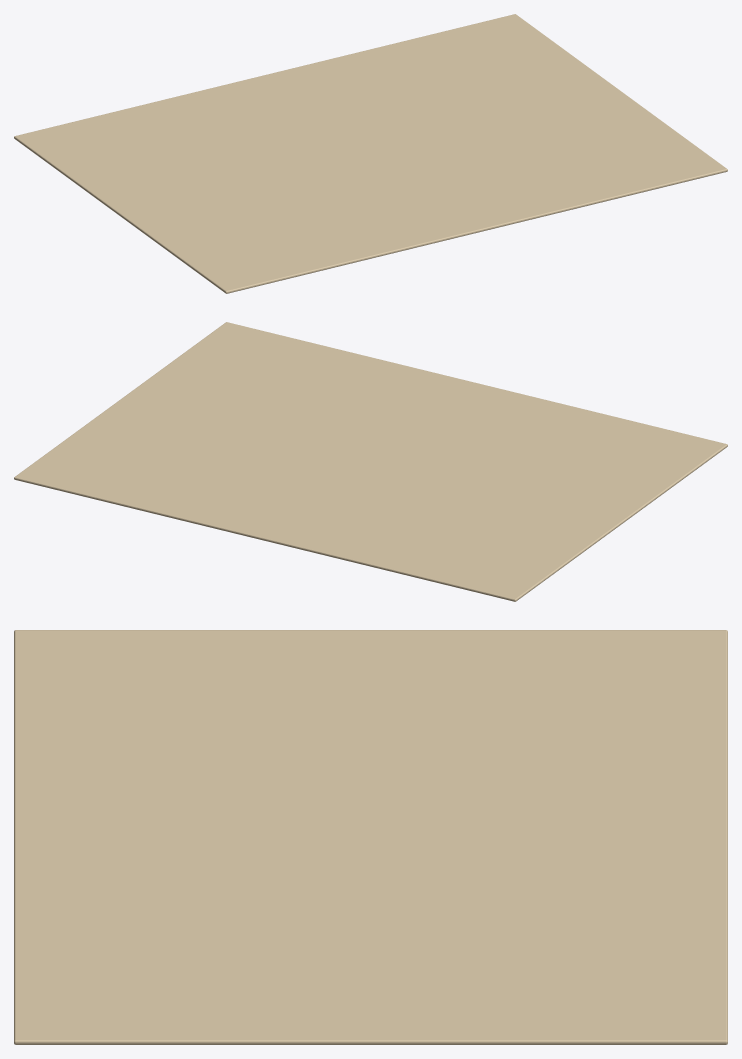
Rendered from woven-jute-rug.glb.
The picture shows the model from 3 angles, top to bottom: view 1: azimuth 30°, elevation 25°; view 2: azimuth 150°, elevation 25°; view 3: azimuth 270°, elevation 25°; orthographic projection. The views are drawn at different scales.
Visible parts, largest first — view 1: rug.jute; view 2: rug.jute; view 3: rug.jute.
Boxes of the visible parts, x1,y1,x2,y2 form: rug.jute: (14,14,727,293); rug.jute: (14,322,727,601); rug.jute: (14,630,727,1044).
Size of the model in its own units: 3 by 0.0159 by 2.2.
